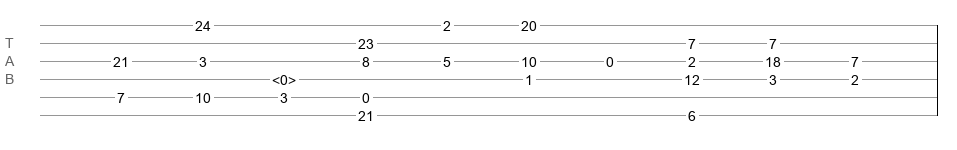0: (362, 90, 370, 100), (606, 54, 614, 64)
1: (525, 72, 533, 82)
10: (195, 90, 211, 100), (521, 54, 537, 64)
12: (684, 72, 700, 82)
18: (765, 54, 781, 64)
2: (443, 18, 451, 28), (688, 54, 696, 64), (851, 72, 859, 82)
20: (521, 18, 537, 28)
21: (113, 54, 129, 64), (358, 108, 374, 118)
23: (358, 36, 374, 46)
24: (195, 18, 211, 28)
3: (199, 54, 207, 64), (280, 90, 288, 100), (769, 72, 777, 82)
5: (443, 54, 451, 64)
6: (688, 108, 696, 118)
7: (117, 90, 125, 100), (688, 36, 696, 46), (769, 36, 777, 46), (851, 54, 859, 64)
8: (362, 54, 370, 64)
harmonic: (272, 72, 296, 82)
